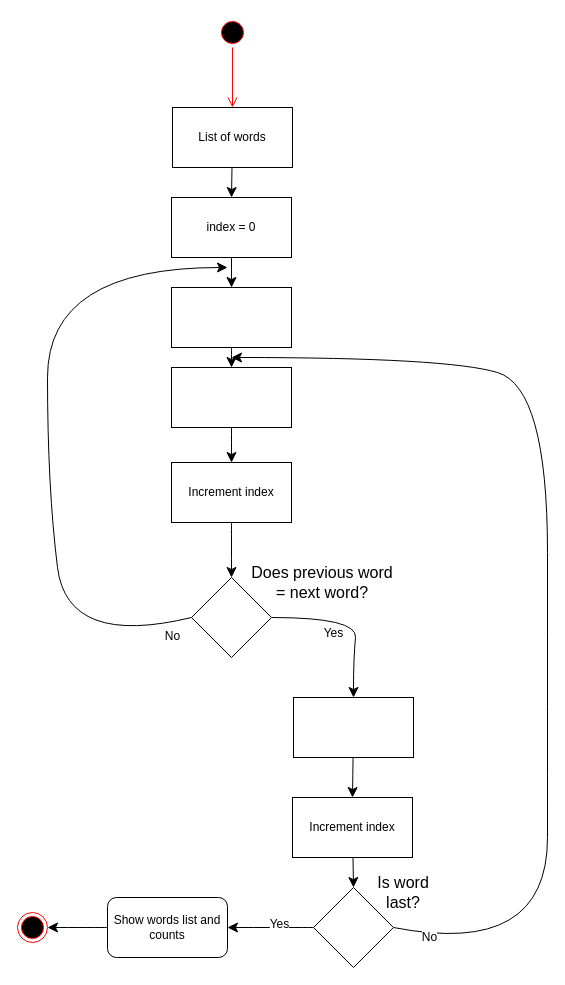
This 565x985 diagram has some shape labels left out. Here are the shapes that lost their labels. From the top down, the centre of each, then its label:
At pixel 231 317: "count = 1".
At pixel 231 397: "Read word at sorted index".
At pixel 353 727: "Increment count".
